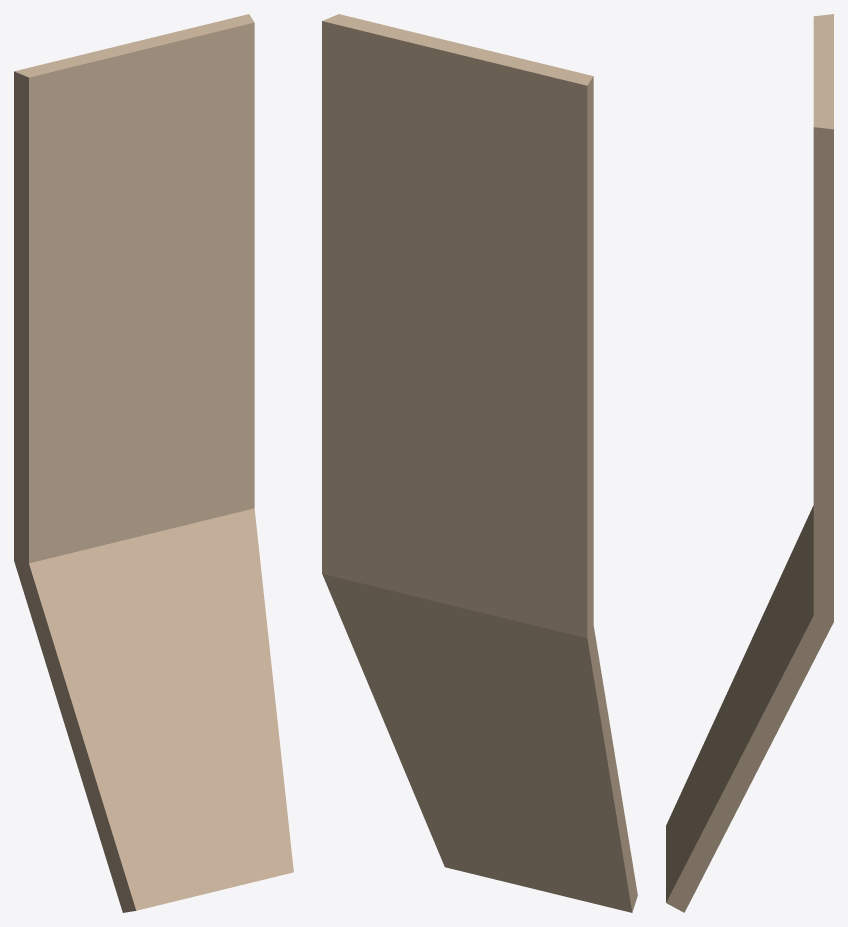
File: big engine mount collider.obj
3 renders of one model, left to right at view 1: azimuth 30°, elevation 25°; view 2: azimuth 150°, elevation 25°; view 3: azimuth 270°, elevation 25°, orthographic. The views are drawn at different scales.
Visible parts, largest first — view 1: c; view 2: c; view 3: c.
Boxes of the visible parts, <box> form: c: <box>14,14,293,912</box>; c: <box>322,14,637,912</box>; c: <box>666,14,833,912</box>.
Size of the model in its own units: 0.5024 by 1.62 by 0.3089.
